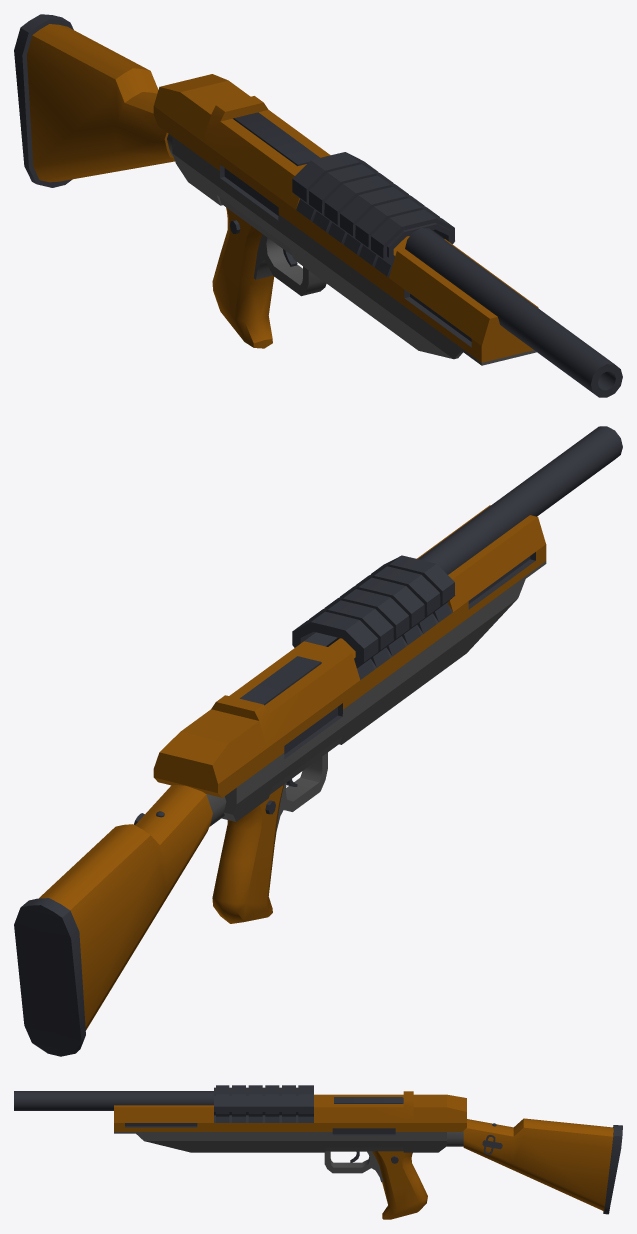
The model's file is mis_combat_shotgun.fbx.
The picture shows the model from 3 angles, top to bottom: view 1: azimuth 30°, elevation 25°; view 2: azimuth 150°, elevation 25°; view 3: azimuth 270°, elevation 25°; orthographic projection. The views are drawn at different scales.
Visible parts, largest first — view 1: mergedBlocks; view 2: mergedBlocks; view 3: mergedBlocks.
Boxes of the visible parts, box(x1,y1,x2,y2) form: mergedBlocks: box(14, 14, 622, 397); mergedBlocks: box(14, 426, 622, 1056); mergedBlocks: box(14, 1085, 622, 1219).
Size of the model in its own units: 4.46 by 14.24 by 60.93.
